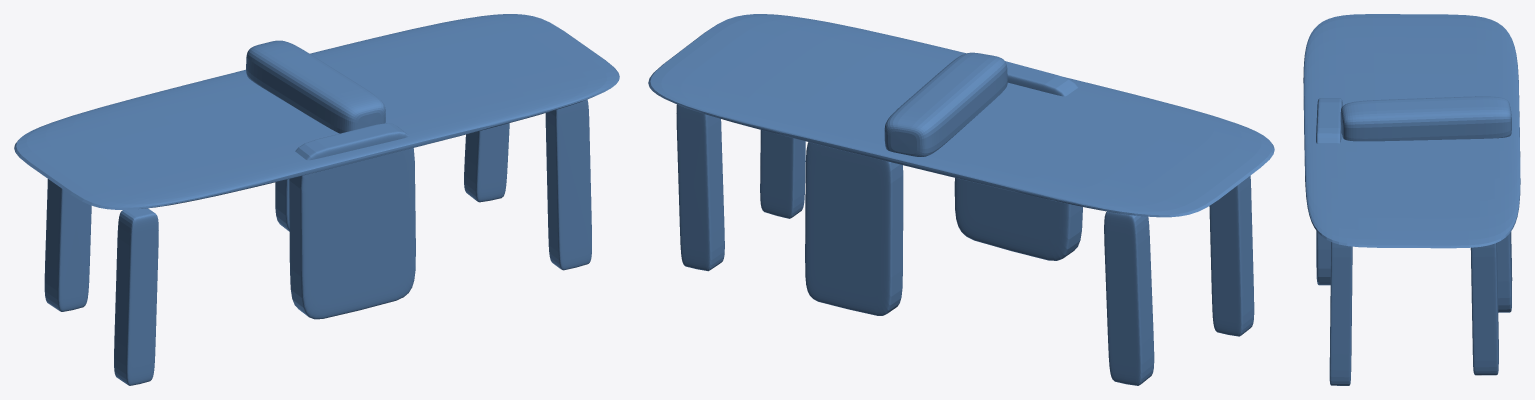
File: edited_abstraction_categorized.glb
The picture shows the model from 3 angles, left to right: view 1: azimuth 30°, elevation 25°; view 2: azimuth 150°, elevation 25°; view 3: azimuth 270°, elevation 25°; orthographic projection. The views are drawn at different scales.
Parts seen in each view (by area): view 1: world; view 2: world; view 3: world.
Part boxes in pixels (x1,y1,x2,y2): world: [14, 14, 619, 385]; world: [648, 14, 1274, 385]; world: [1303, 14, 1520, 385].
Bounding box in the file's own units: 0.7775 × 0.2995 × 0.3037.
